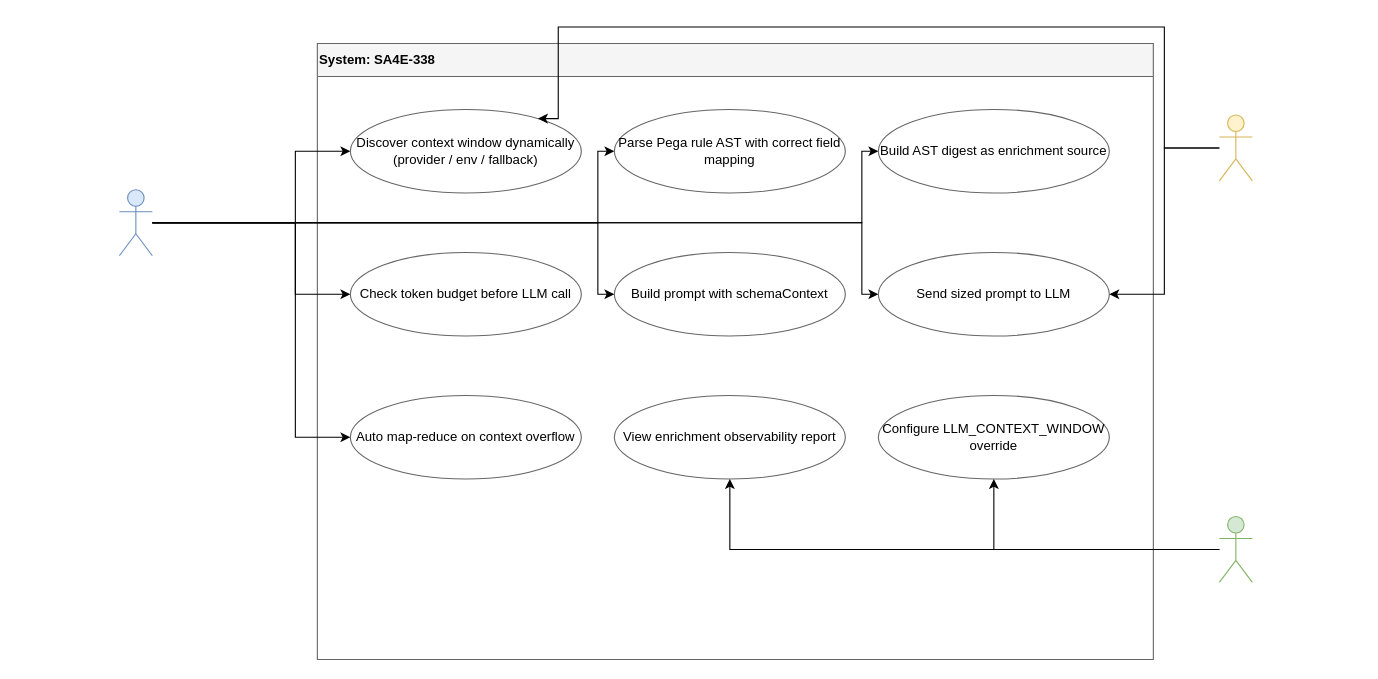
Some shapes in this 1378 by 679 pixel diagram are drawn without their labels. The box of each missing label's shape, as (x1, y1, x2, y2) in pixels:
Enrichment Pipeline (PegaSymbolSync): (118, 189, 152, 256)
LLM Provider (Ollama / LM Studio / vLLM): (1218, 114, 1252, 181)
Platform Operator: (1218, 515, 1252, 582)
